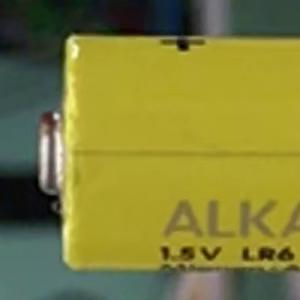ALK: (151, 193, 259, 271)
